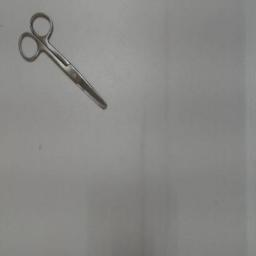Dressing Scissors: (13, 7, 113, 117)
